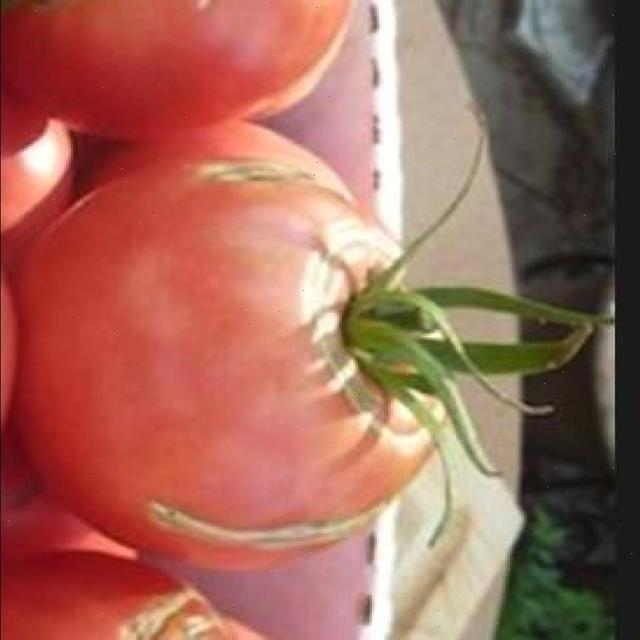Cracking Fruit: (84, 42, 250, 404)
